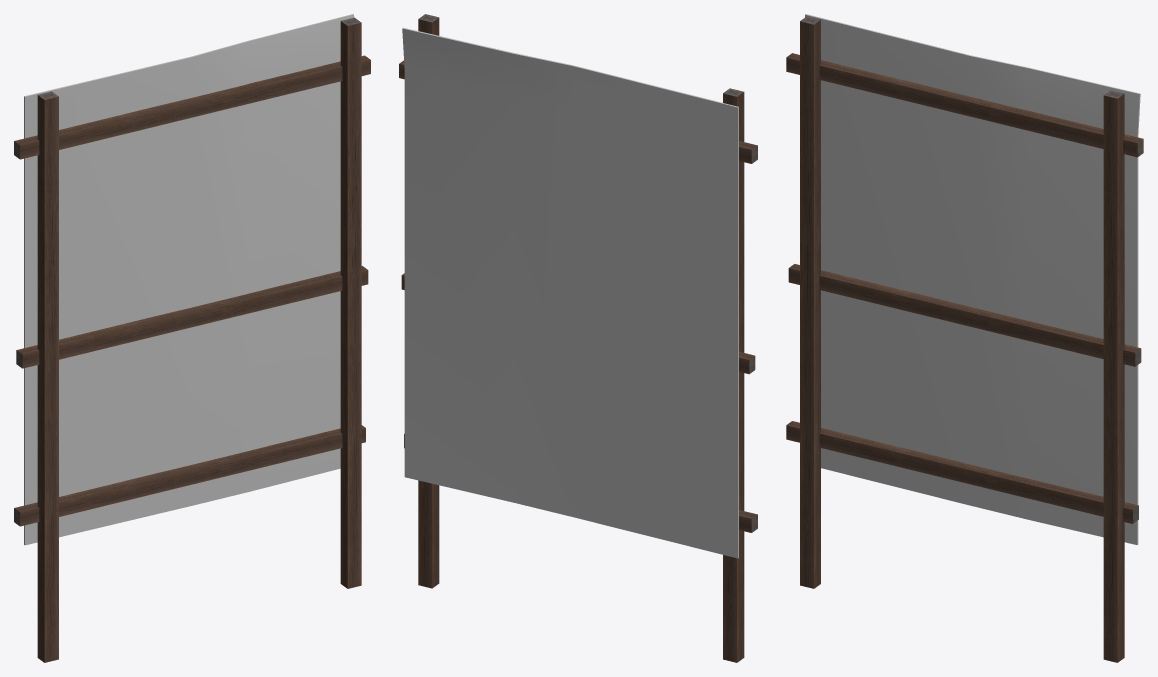
File: fence05a_0t.fbx
The picture shows the model from 3 angles, left to right: view 1: azimuth 30°, elevation 25°; view 2: azimuth 150°, elevation 25°; view 3: azimuth 330°, elevation 25°; orthographic projection.
Parts seen in each view (by area): view 1: fence05a_0t; view 2: fence05a_0t; view 3: fence05a_0t.
Part boxes in pixels (<box>): fence05a_0t: <box>14,14,370,662</box>; fence05a_0t: <box>399,14,757,662</box>; fence05a_0t: <box>786,14,1143,662</box>.
Size of the model in its own units: 116 by 178 by 9.05.
